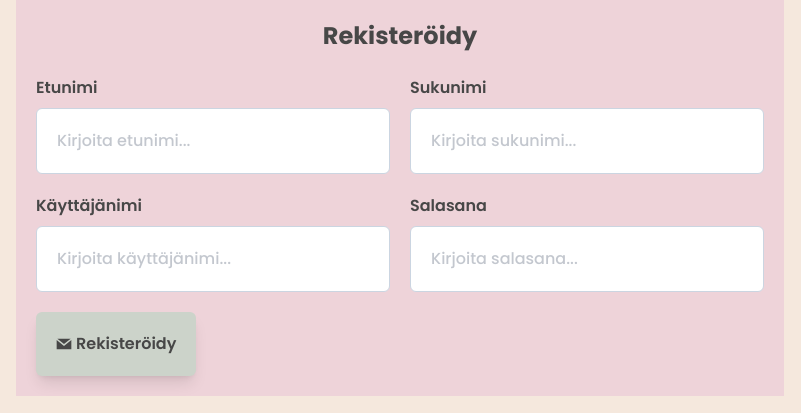
Test: UserForm Component › shows validation messages for invalid input
Click the button "Rekisteröidy" at coordinates (116, 344), box [36,312,196,376]
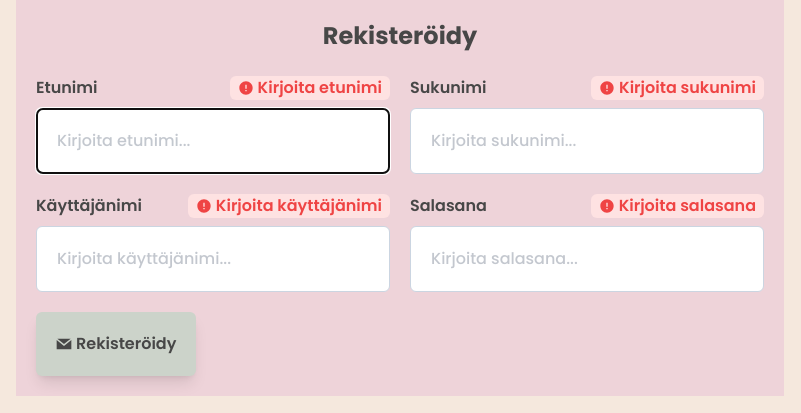
Check: the text "Kirjoita etunimi" is shown, box [230,76,390,100]
Check: the text "Kirjoita sukunimi" is shown, box [591,76,764,100]
Check: the text "Kirjoita käyttäjänimi" is shown, box [188,194,390,218]
